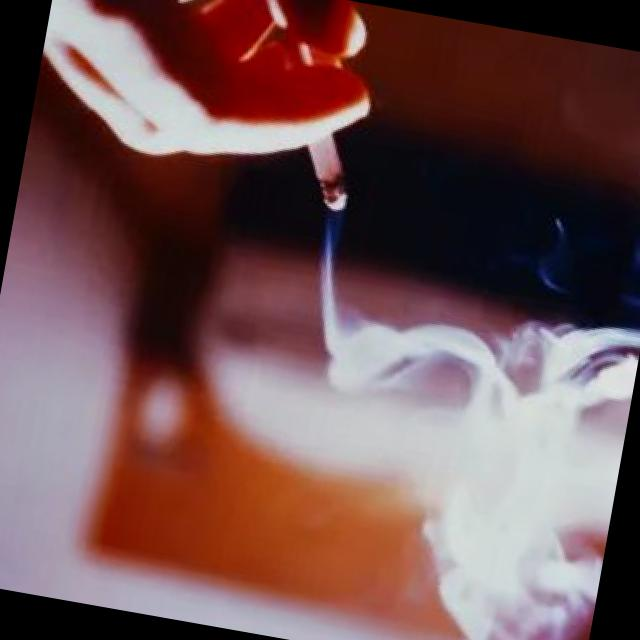cigarette: (294, 127, 372, 221)
